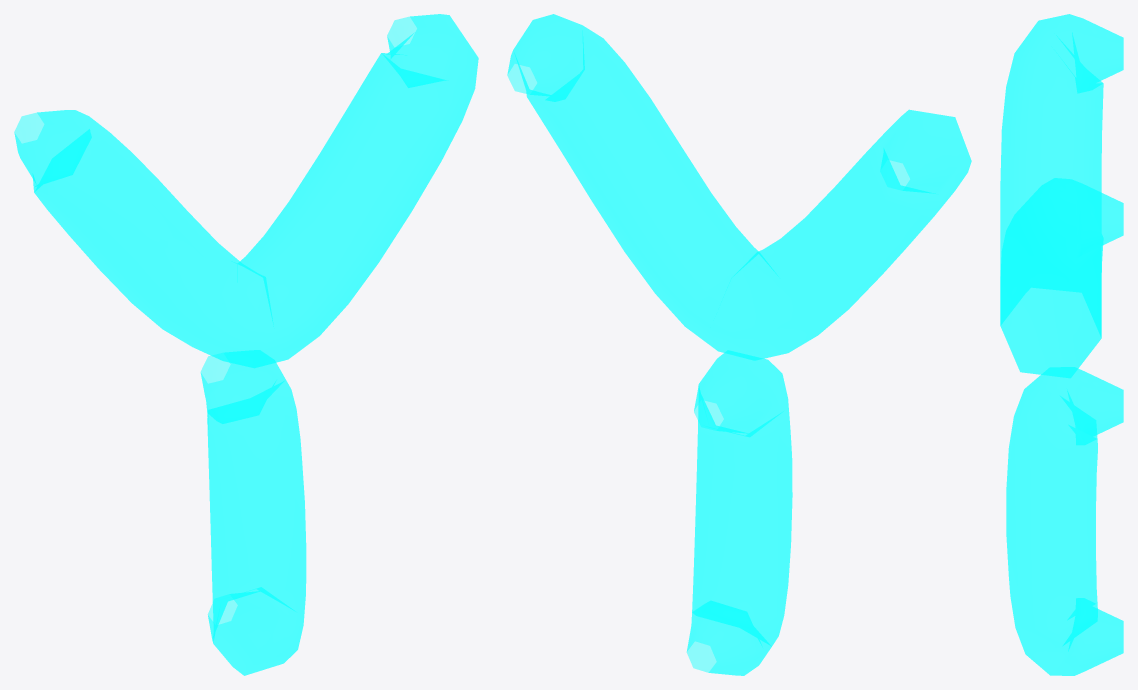
The picture shows the model from 3 angles, left to right: view 1: azimuth 30°, elevation 25°; view 2: azimuth 150°, elevation 25°; view 3: azimuth 270°, elevation 25°; orthographic projection. The views are drawn at different scales.
Visible parts, largest first — view 1: neon_letter_y.001_156; view 2: neon_letter_y.001_156; view 3: neon_letter_y.001_156.
Boxes of the visible parts, x1,y1,x2,y2 form: neon_letter_y.001_156: [14, 14, 478, 675]; neon_letter_y.001_156: [507, 14, 971, 675]; neon_letter_y.001_156: [1000, 14, 1123, 675].
Bounding box in the file's own units: 0.6702 × 0.8619 × 0.1707.
